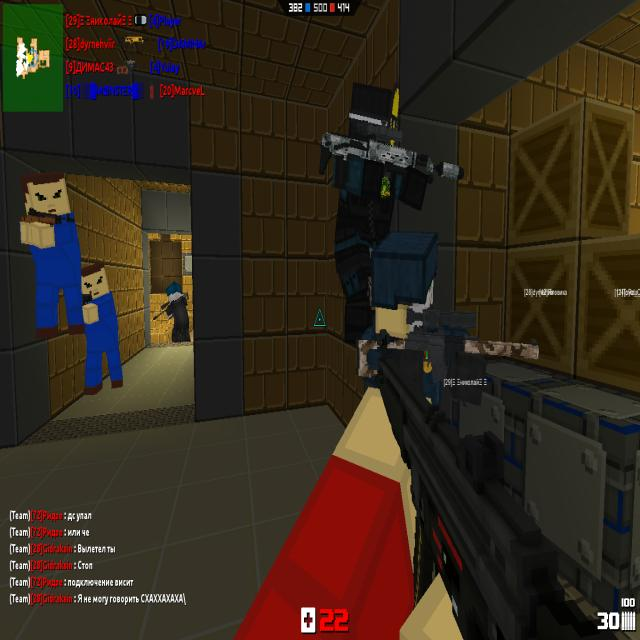enemy: (336, 84, 427, 345), (358, 229, 485, 406), (17, 170, 84, 333), (78, 261, 124, 395), (166, 281, 190, 342)
